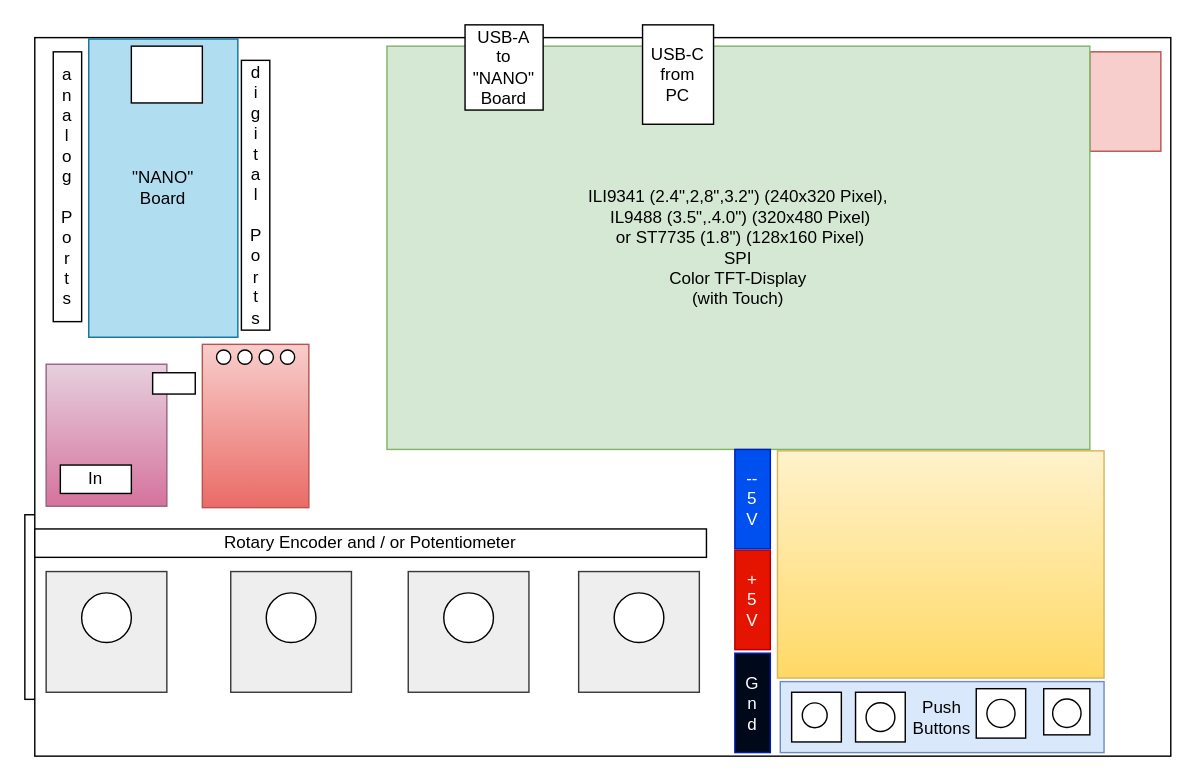
The diagram is 1196 pixels wide and 781 high, and some of its shapes have lost their labels. Each missing label, with the box of its shape:
Bread Board: (776, 449, 1104, 678)
DAC: (45, 363, 167, 506)
LED: (201, 343, 309, 508)
Out: (151, 371, 195, 394)
Pow Switch: (1088, 50, 1161, 151)
USB In: (130, 45, 202, 103)
